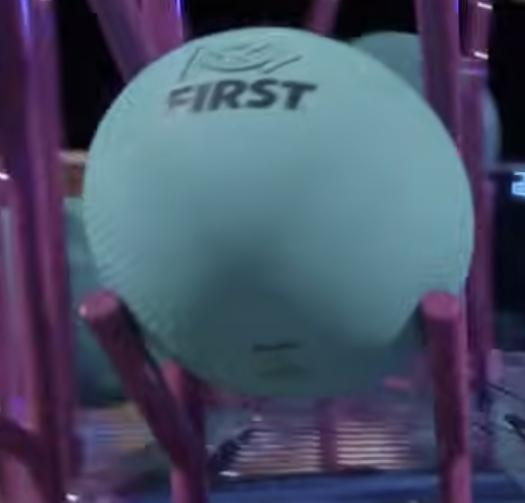algae: (83, 28, 473, 402), (0, 199, 143, 406), (346, 33, 499, 185)
